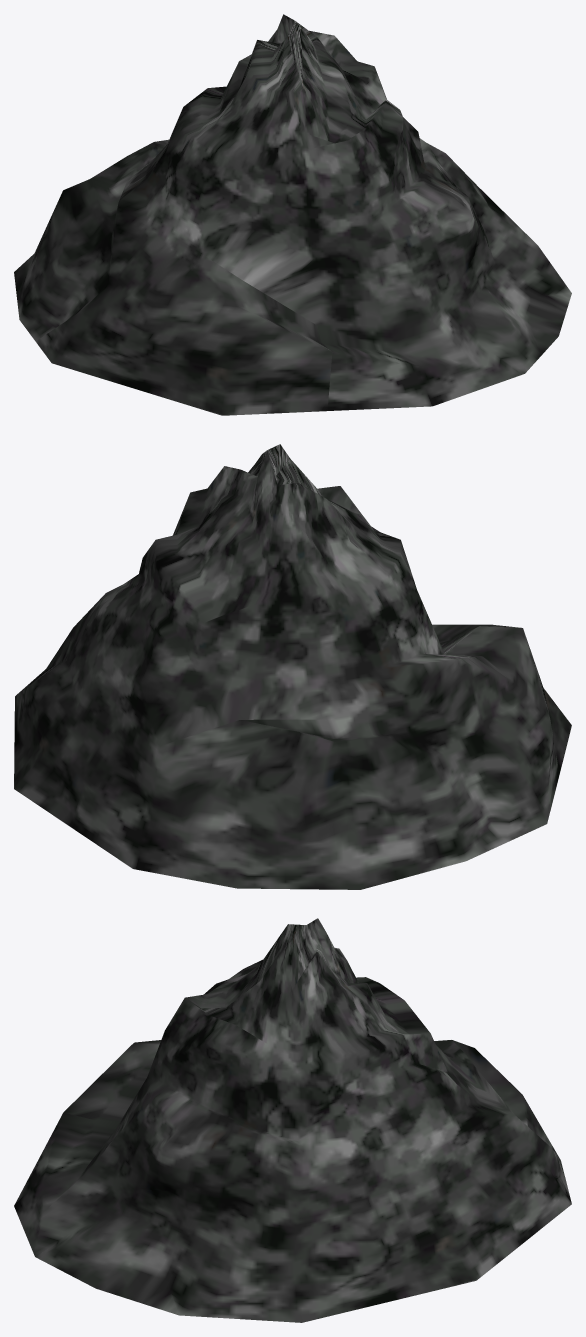
The model's file is INST_SWORDLIGHT_ORED.fbx.
3 renders of one model, top to bottom at view 1: azimuth 30°, elevation 25°; view 2: azimuth 150°, elevation 25°; view 3: azimuth 270°, elevation 25°, orthographic. The views are drawn at different scales.
Parts seen in each view (by area): view 1: INST_SWORDLIGHT_ORED; view 2: INST_SWORDLIGHT_ORED; view 3: INST_SWORDLIGHT_ORED.
Part boxes in pixels (bbox=[...]): INST_SWORDLIGHT_ORED: bbox=[14, 14, 571, 415]; INST_SWORDLIGHT_ORED: bbox=[14, 444, 571, 889]; INST_SWORDLIGHT_ORED: bbox=[14, 918, 571, 1322].
Bounding box in the file's own units: 34503 × 19560 × 34351.
1 material, 1 textured.
